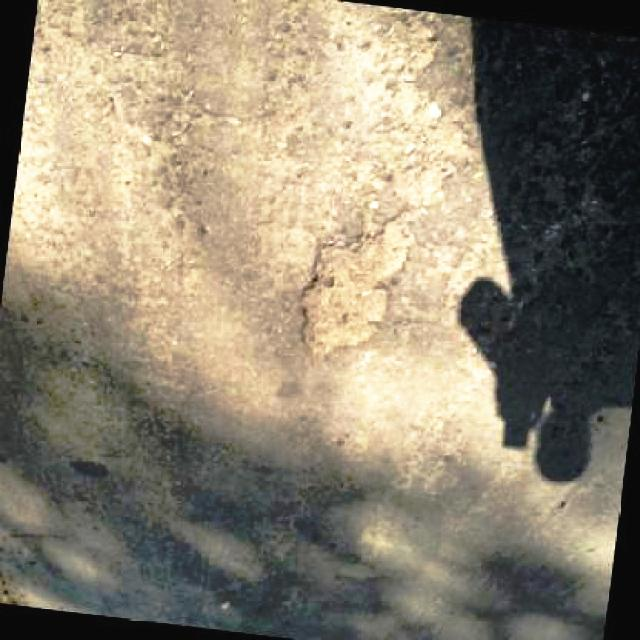pothole: (291, 209, 420, 362), (395, 106, 477, 205)
